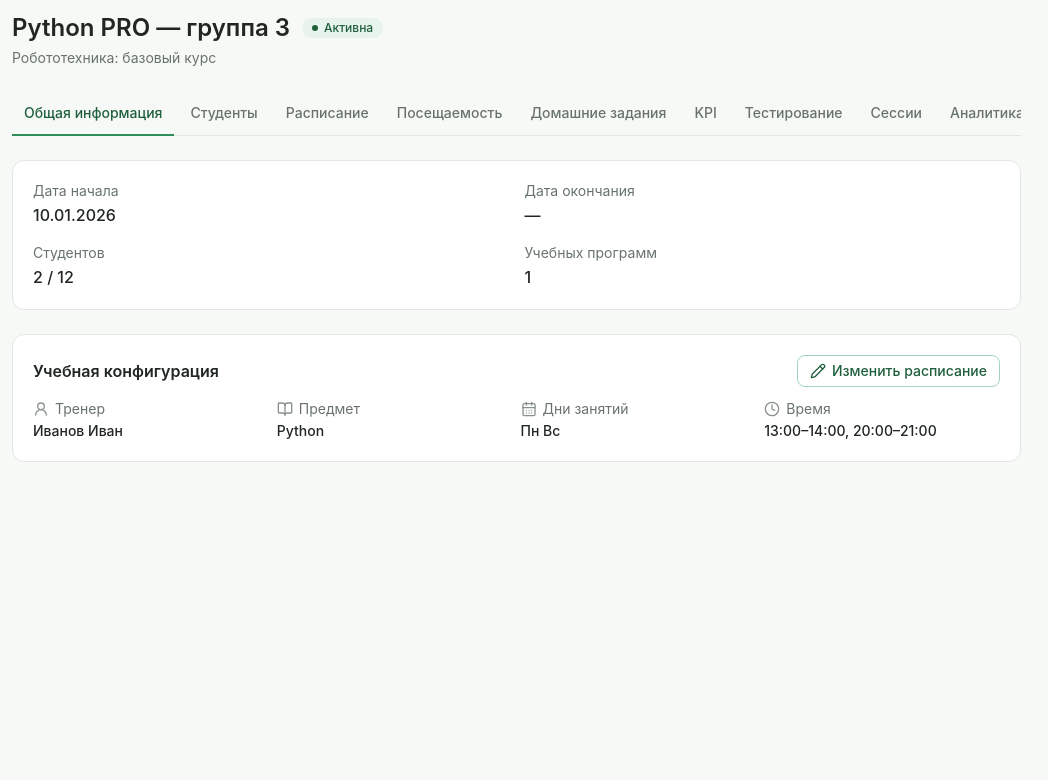
Test: GroupDetailPage — Team Lead academic configuration › generates lessons with the existing generator
This screenshot has width=1048, height=780.
Step 1. Click the tab "Расписание" → (327, 114), box x1=274 y1=92 x2=381 y2=136
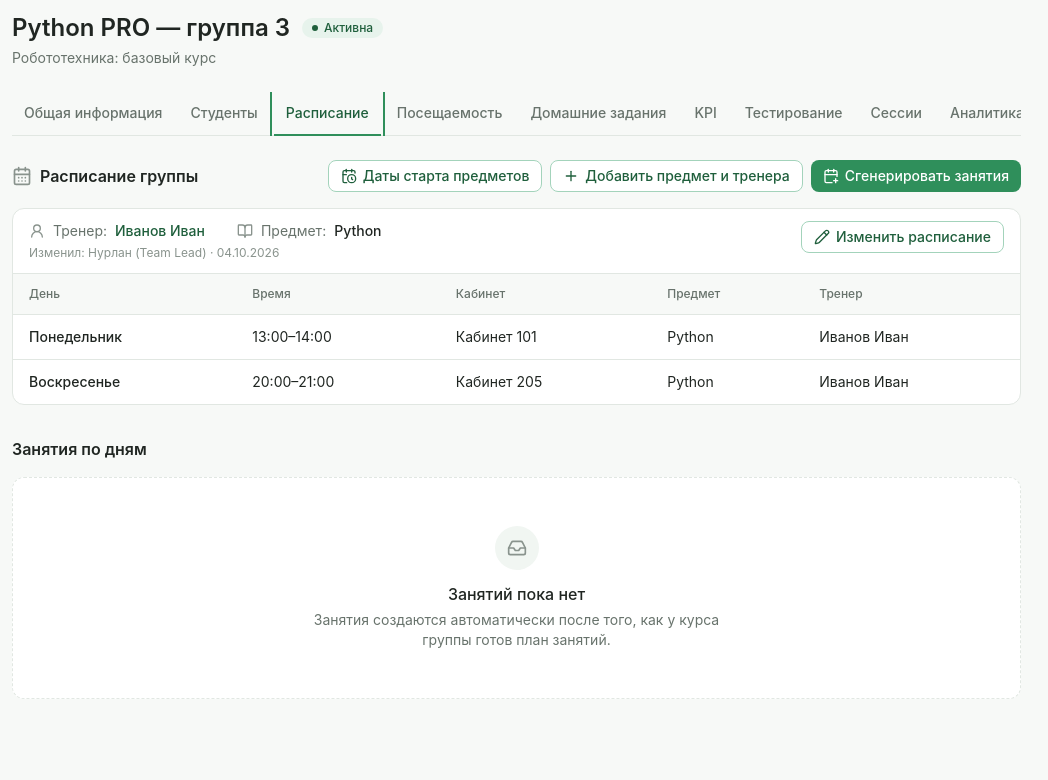
Step 2. Click the button "Сгенерировать занятия" → (916, 176), box x1=811 y1=160 x2=1021 y2=192
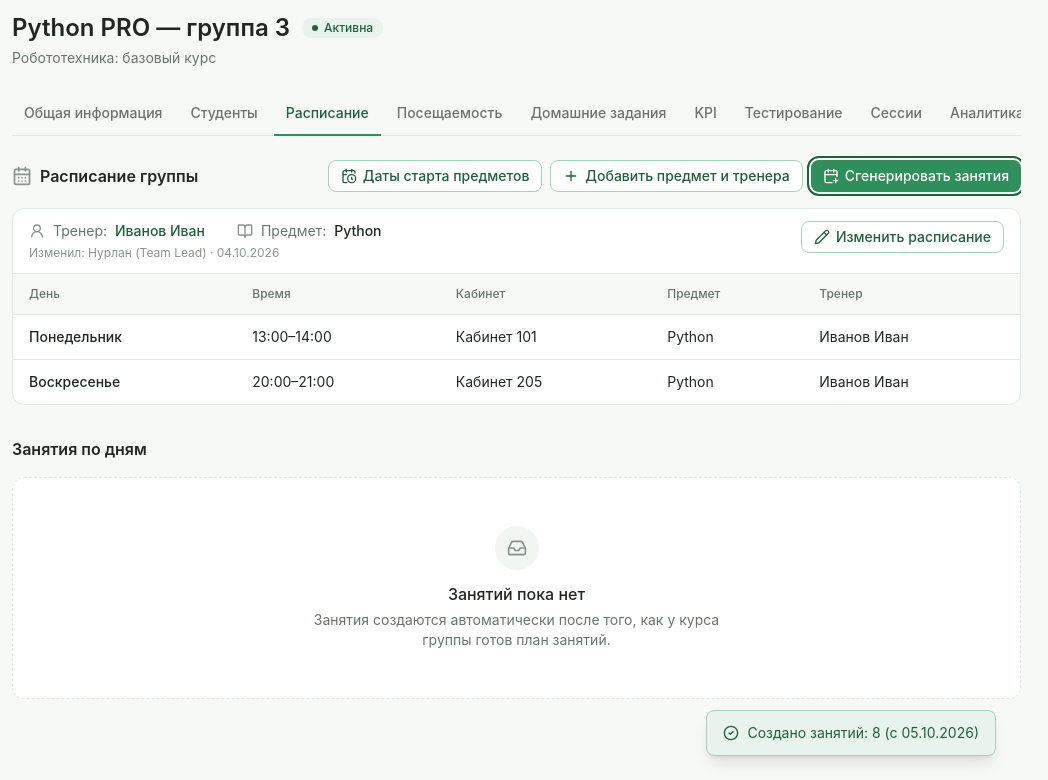
Expected: the text "Создано занятий: 8 (с 05.10.2026)" is shown, x1=747 y1=723 x2=979 y2=743
